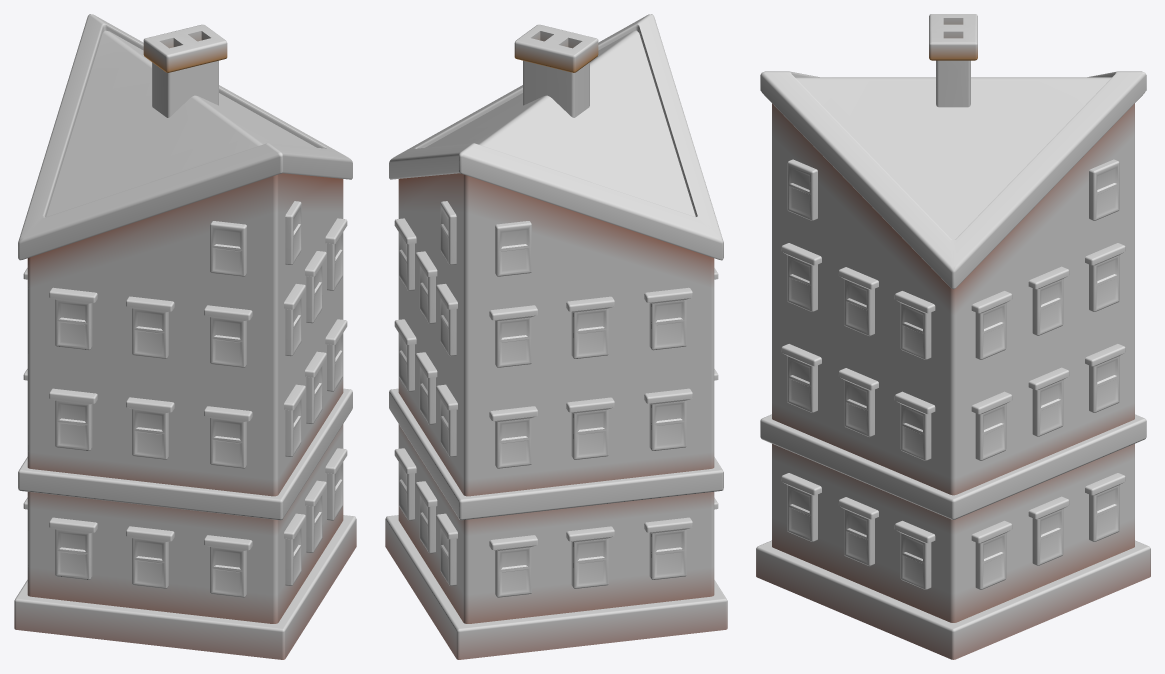
Rendered from NF_Bld_Apartment 39.fbx.
The picture shows the model from 3 angles, left to right: view 1: azimuth 30°, elevation 25°; view 2: azimuth 150°, elevation 25°; view 3: azimuth 270°, elevation 25°; orthographic projection.
Visible parts, largest first — view 1: Apart_39; view 2: Apart_39; view 3: Apart_39.
Part boxes in pixels (x1,y1,x2,y2): Apart_39: [14, 14, 356, 659]; Apart_39: [385, 14, 727, 659]; Apart_39: [756, 14, 1150, 659].
Size of the model in its own units: 10.63 by 16.3 by 10.63.
